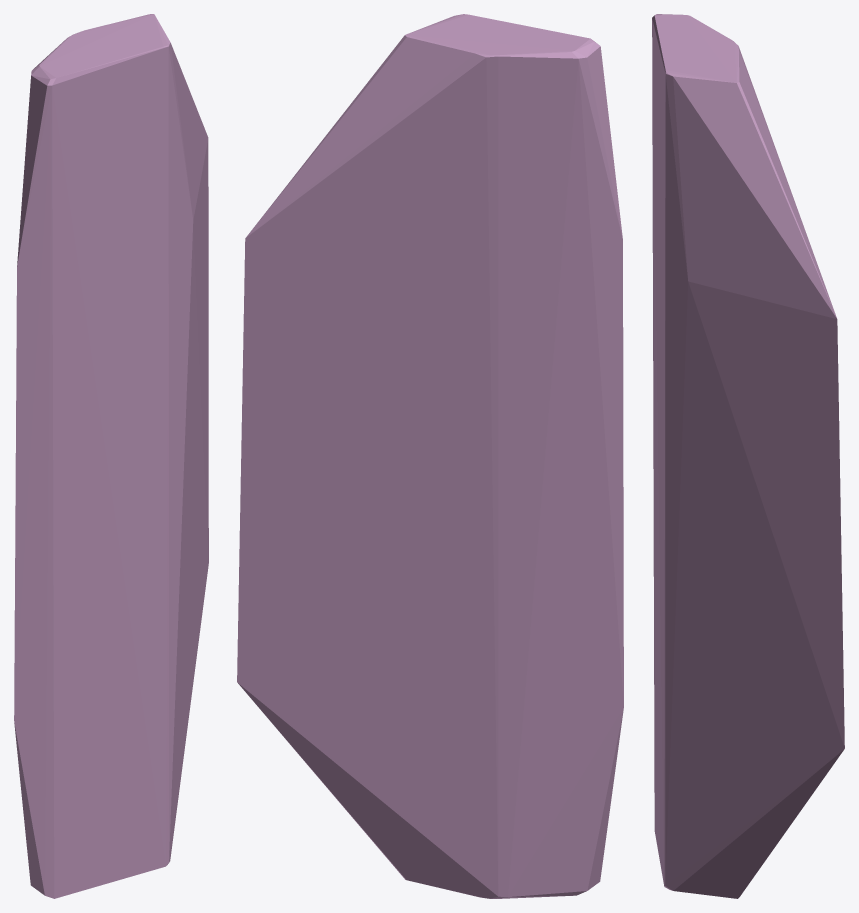
The model's file is bodyPart_spoiler_c01.glb.
The picture shows the model from 3 angles, left to right: view 1: azimuth 30°, elevation 25°; view 2: azimuth 150°, elevation 25°; view 3: azimuth 270°, elevation 25°; orthographic projection. The views are drawn at different scales.
Parts seen in each view (by area): view 1: geometry_0; view 2: geometry_0; view 3: geometry_0.
Part boxes in pixels (left/top/right/bottom): geometry_0: left=14, top=14, right=208, bottom=898; geometry_0: left=237, top=14, right=623, bottom=898; geometry_0: left=652, top=14, right=844, bottom=898.
Bounding box in the file's own units: 0.1746 × 0.4799 × 0.1026.
